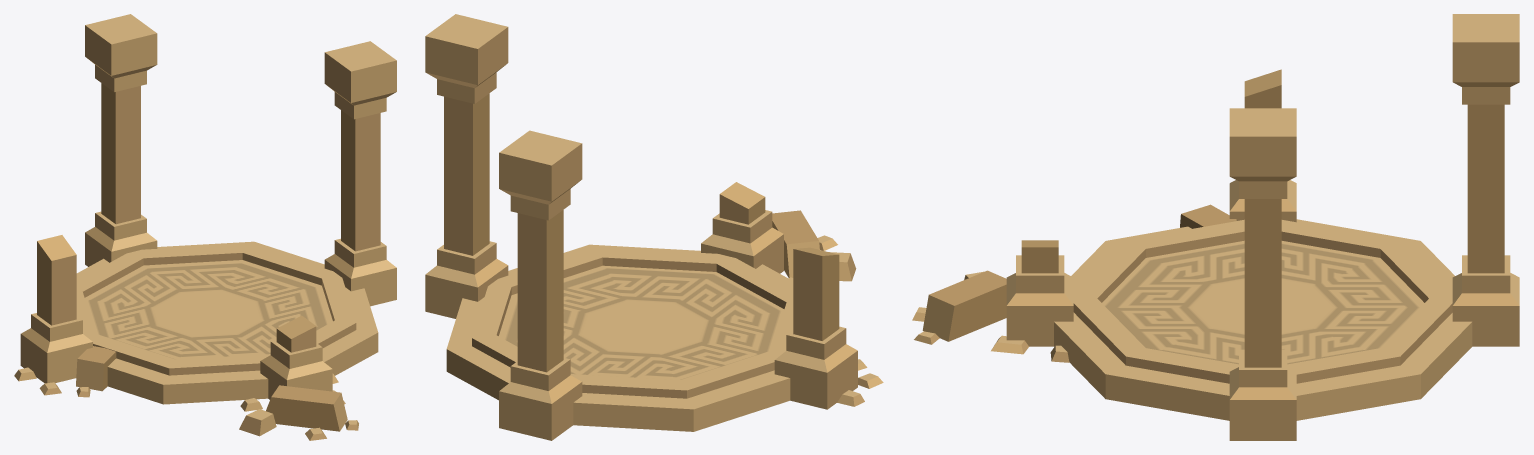
The model's file is ST_Env_Alter_02.fbx.
The picture shows the model from 3 angles, left to right: view 1: azimuth 30°, elevation 25°; view 2: azimuth 150°, elevation 25°; view 3: azimuth 270°, elevation 25°; orthographic projection. The views are drawn at different scales.
Parts seen in each view (by area): view 1: ST_Env_Alter_02; view 2: ST_Env_Alter_02; view 3: ST_Env_Alter_02.
Part boxes in pixels (bbox=[...]): ST_Env_Alter_02: bbox=[14, 14, 396, 440]; ST_Env_Alter_02: bbox=[425, 14, 883, 440]; ST_Env_Alter_02: bbox=[912, 14, 1519, 440].
Size of the model in its own units: 8.02 by 5 by 9.05.
